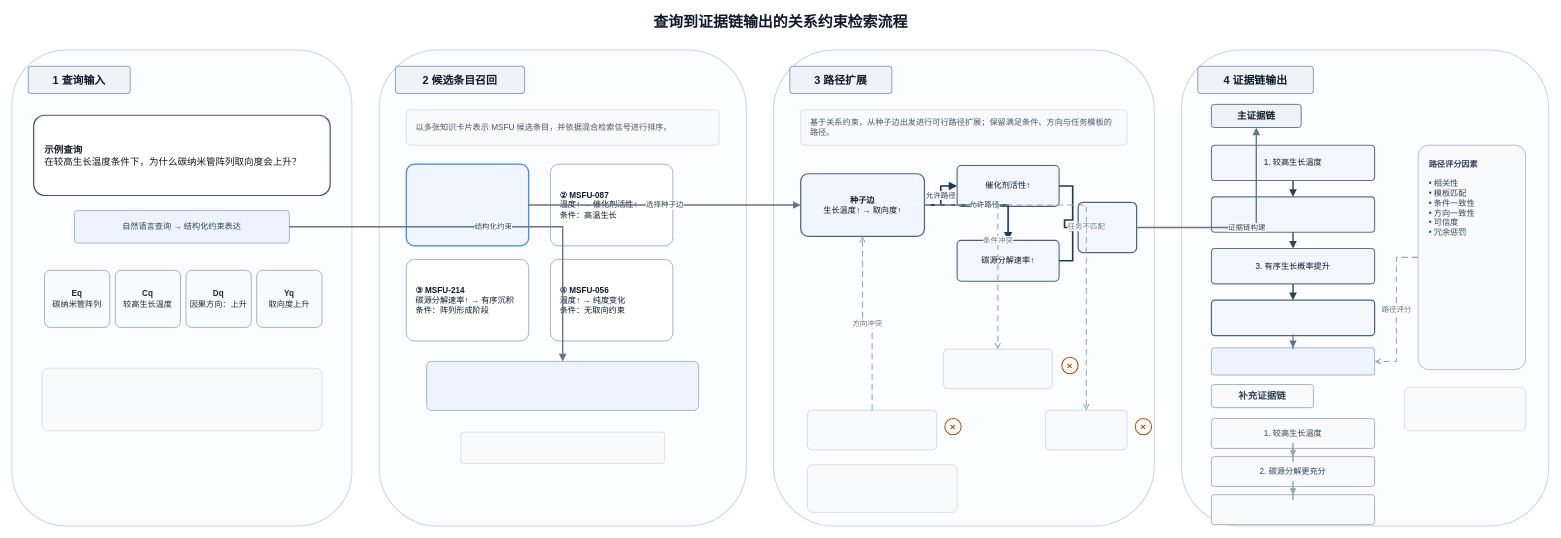
The diagram is 1561 pixels wide and 538 high, and some of its shapes have lost their labels. The centre of each missing label's shape, as x and y in pixels:
2. 催化剂活性增强: point (1293, 214)
3. 取向度进一步提升: point (1293, 509)
4. 阵列取向度上升: point (1292, 317)
Top-k 候选中选择高分种子边: point (562, 447)
① MSFU-143（种子边） 生长温度↑ → 取向度↑ 条件：CVD / 阵列生长: point (467, 204)
低温 / 其他条件: point (997, 368)
取向度↑ → 生长温度↑: point (872, 430)
图例 深色实线：允许路径 灰色虚线 + ×：剔除路径: point (882, 488)
按路径分数排序输出: point (1293, 361)
混合召回排序 关键词匹配 + 向量相似 + 结构模板: point (562, 385)
纯度变化: point (1086, 430)
结构化标签分别抽取研究对象、条件约束、关系方向和目标现象，为后续约束检索提供统一接口。: point (181, 399)
路径评分驱动主链与补充链的排序与筛选: point (1465, 409)
阵列取向度↑: point (1107, 227)
